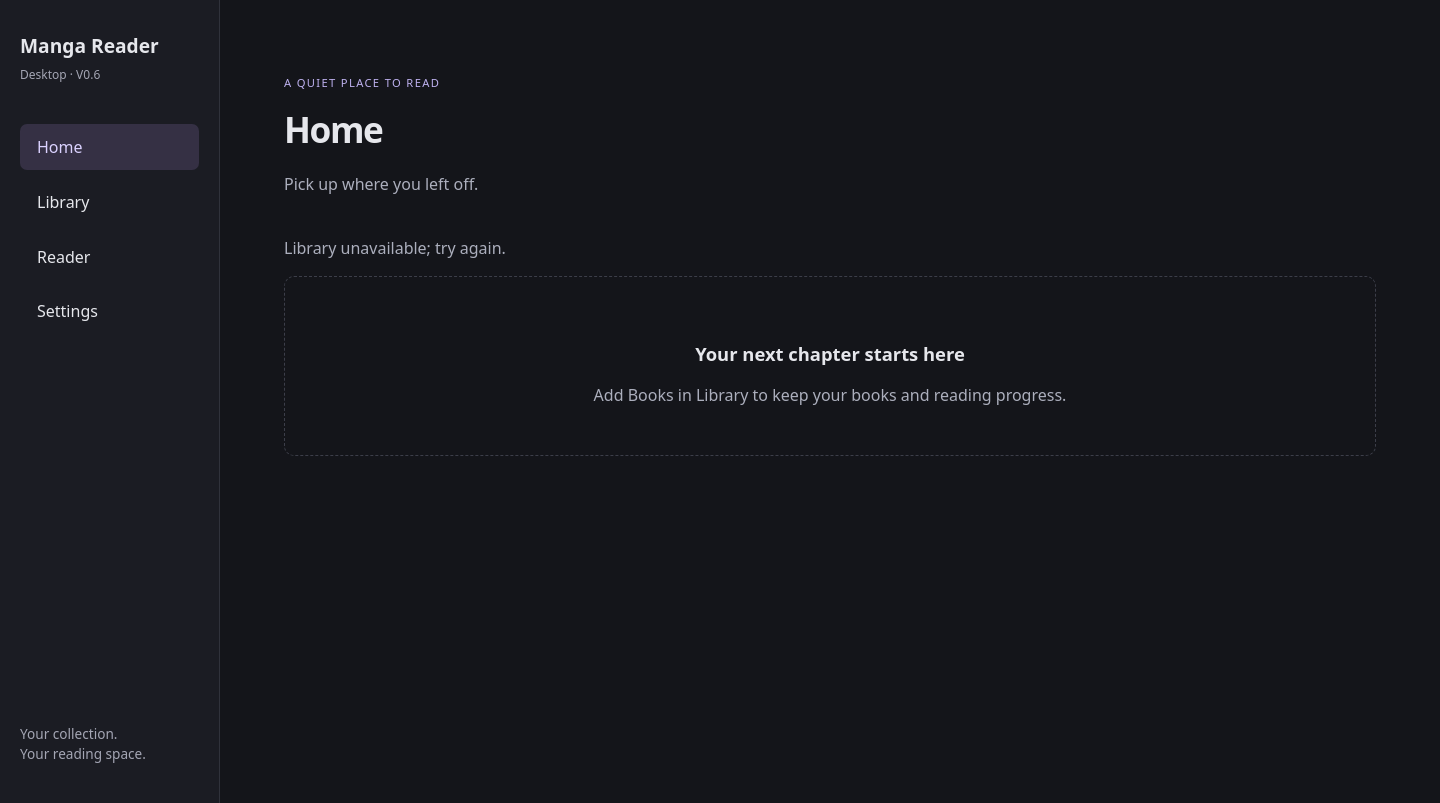
Test case: database failure is surfaced and Library refresh can recover
Click the button "Library" at (110, 202), box [20,178,199,225]
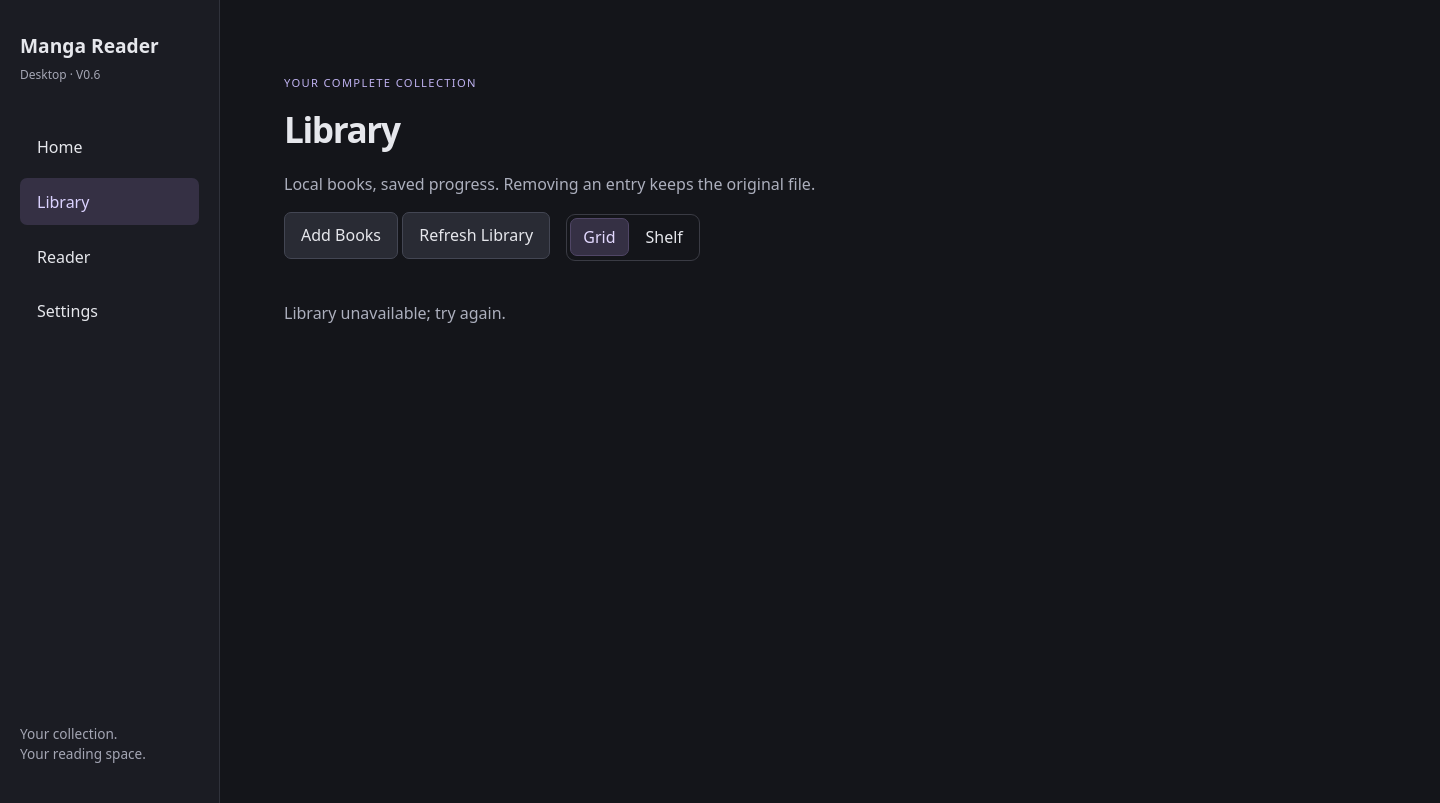
Expected: the text "Library unavailable; try again." is shown, [284,302,506,324]
Click the button "Refresh Library" at (476, 235), box [402,212,550,259]
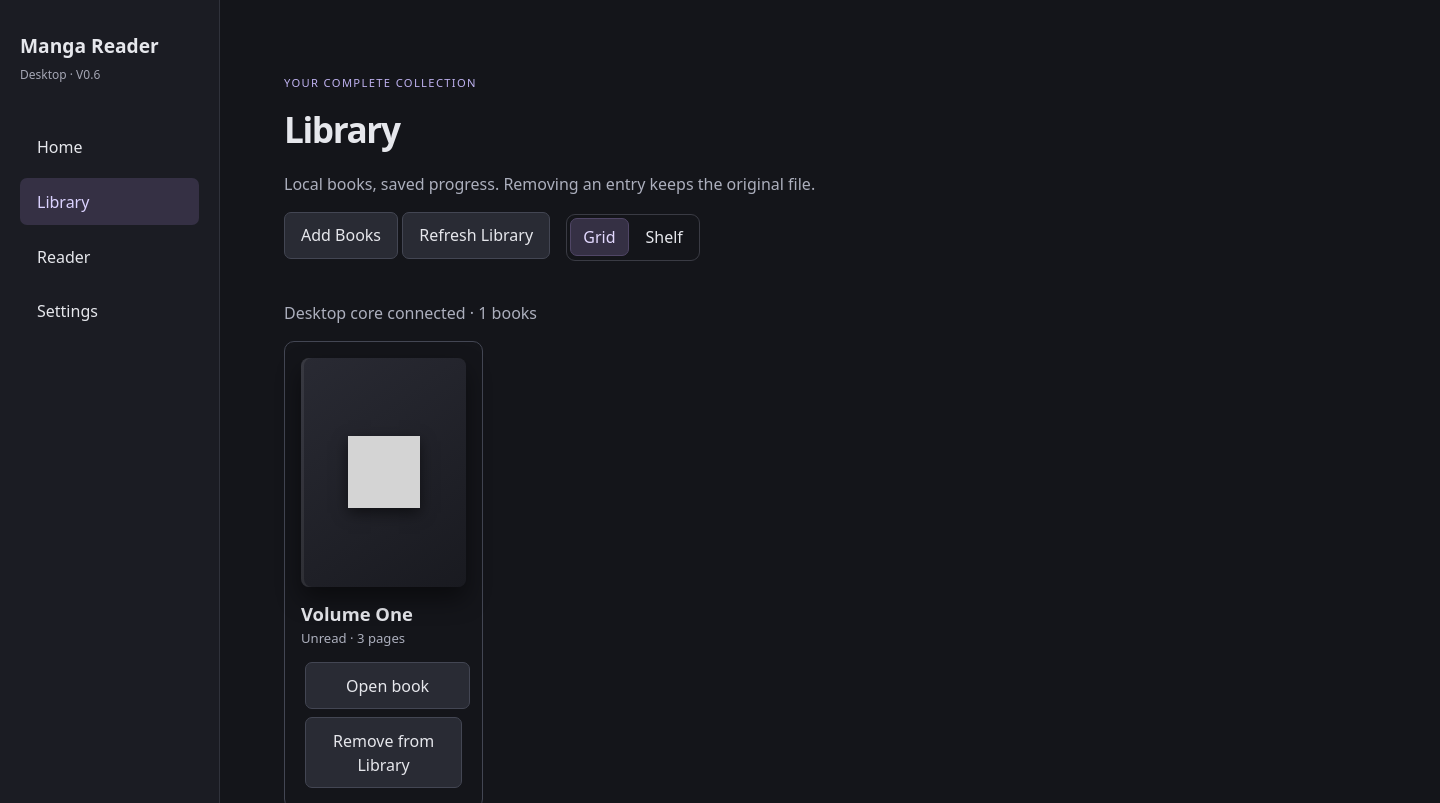
Expected: the text "Volume One" is shown, [301,601,413,626]
